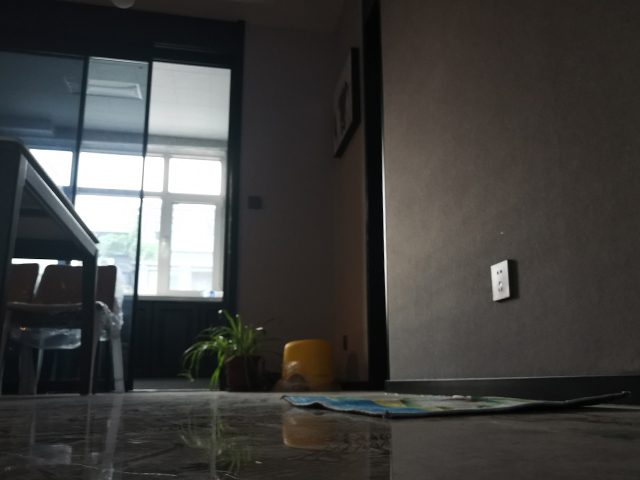cabinet: (121, 292, 225, 389)
carpet: (278, 386, 635, 421)
stool: (1, 260, 125, 400), (279, 338, 338, 394)
table: (1, 135, 103, 397)
